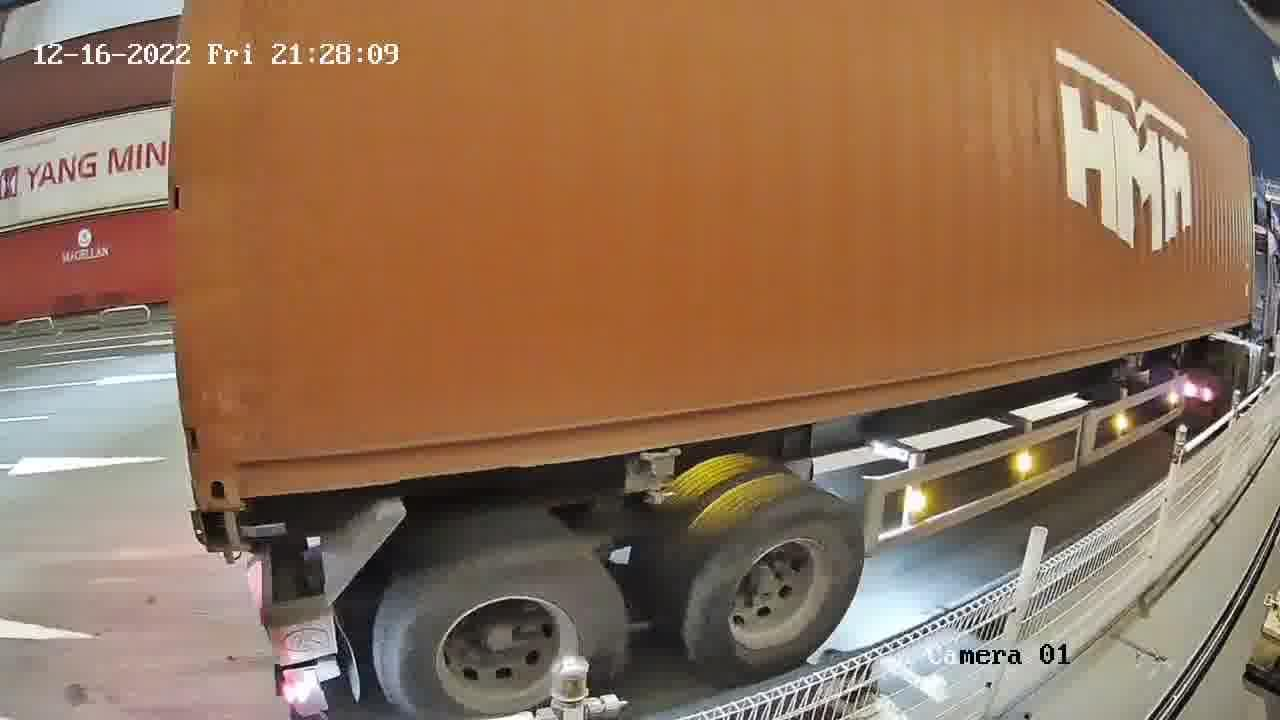Cone: (192, 513, 248, 553)
Hole_L: (187, 427, 288, 513)
Tire: (383, 540, 627, 713), (684, 496, 864, 683)
